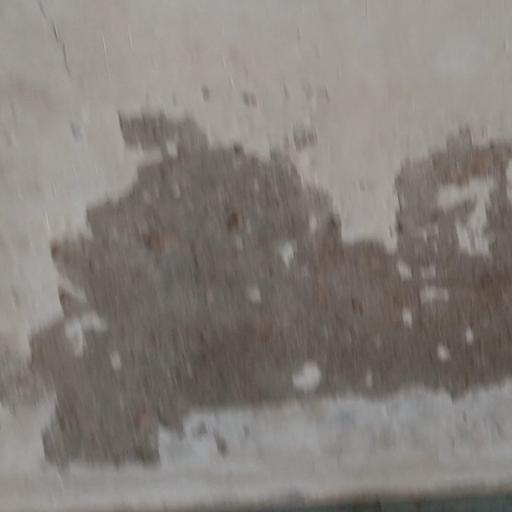peeling: (0, 108, 512, 485)
